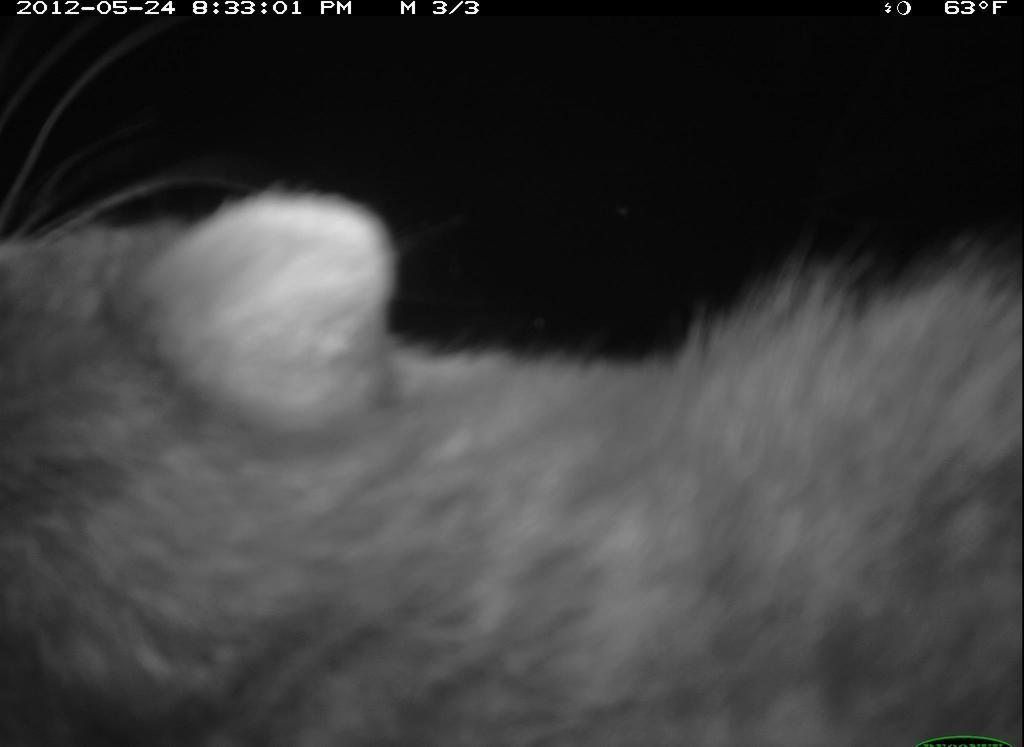raccoon: (4, 159, 1023, 747)
